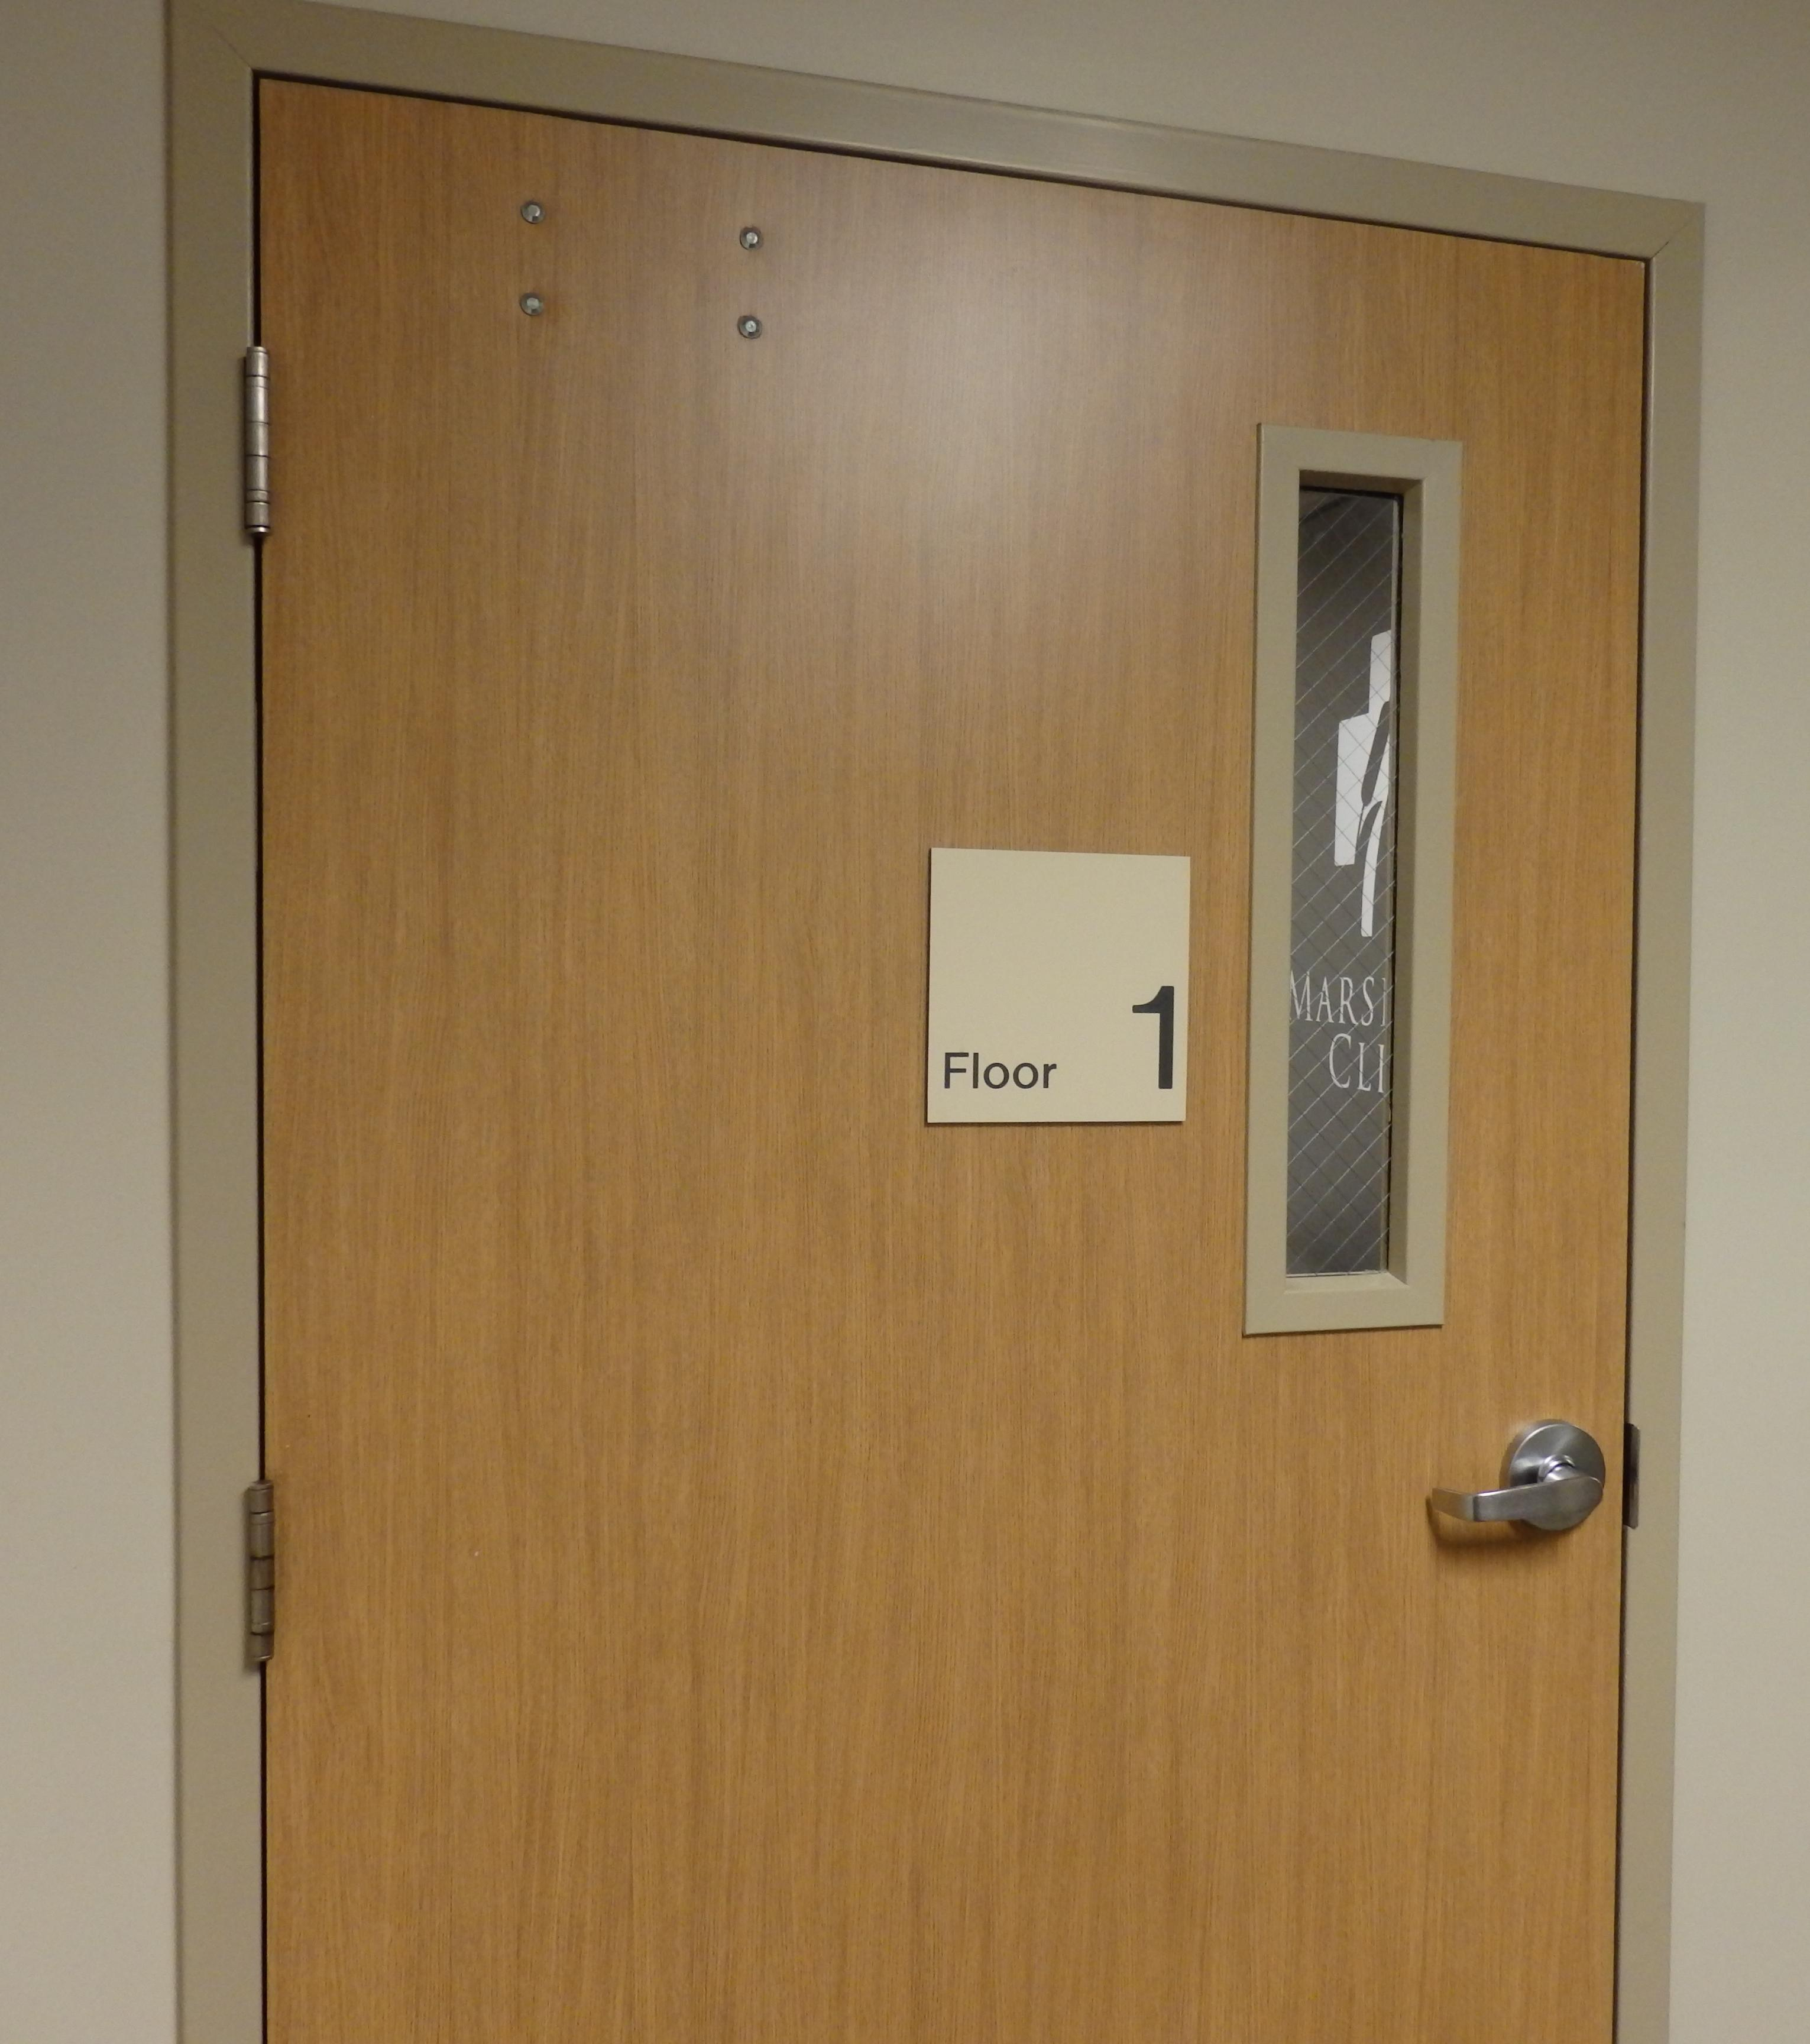door: (241, 49, 1656, 2044)
